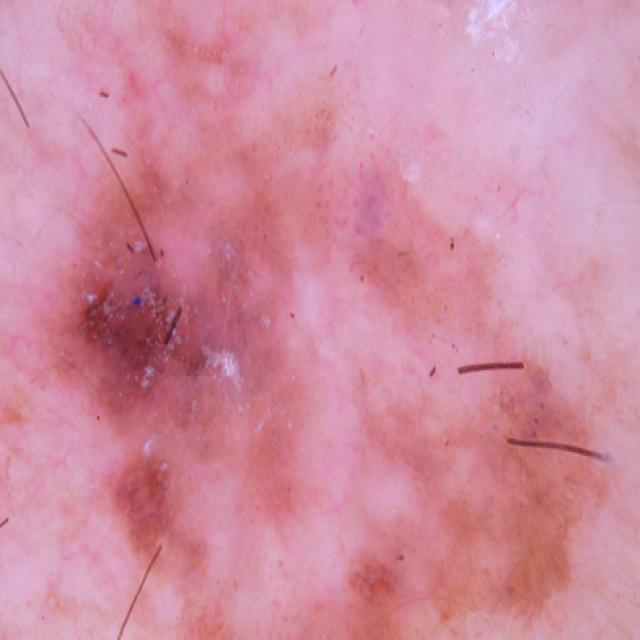Carcinoma: (74, 212, 590, 569)
